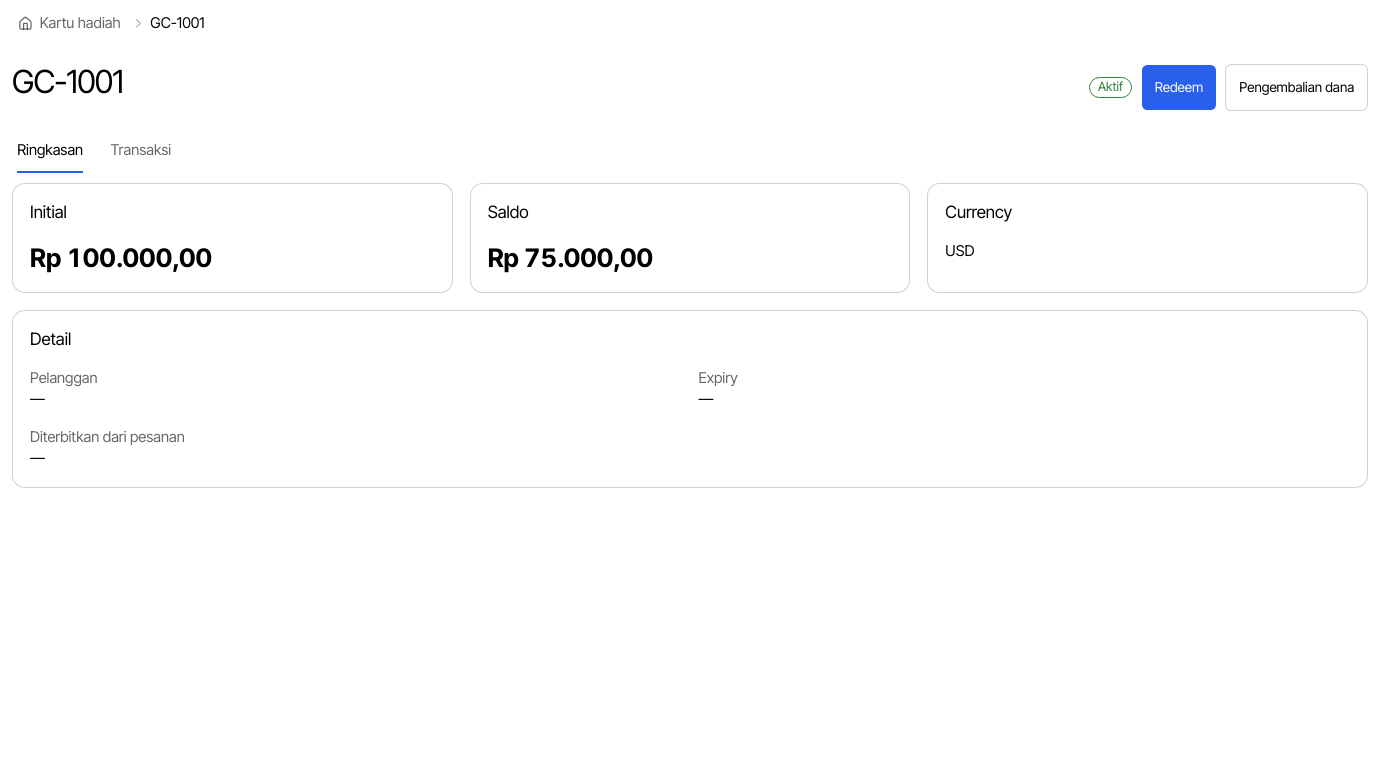
Test: GiftCardDetail › shows empty transactions on the transactions tab
Expected: the heading "GC-1001" is shown, 12,64 -> 123,100
Click the tab "Transaksi": (141, 151) 110,128 -> 172,174
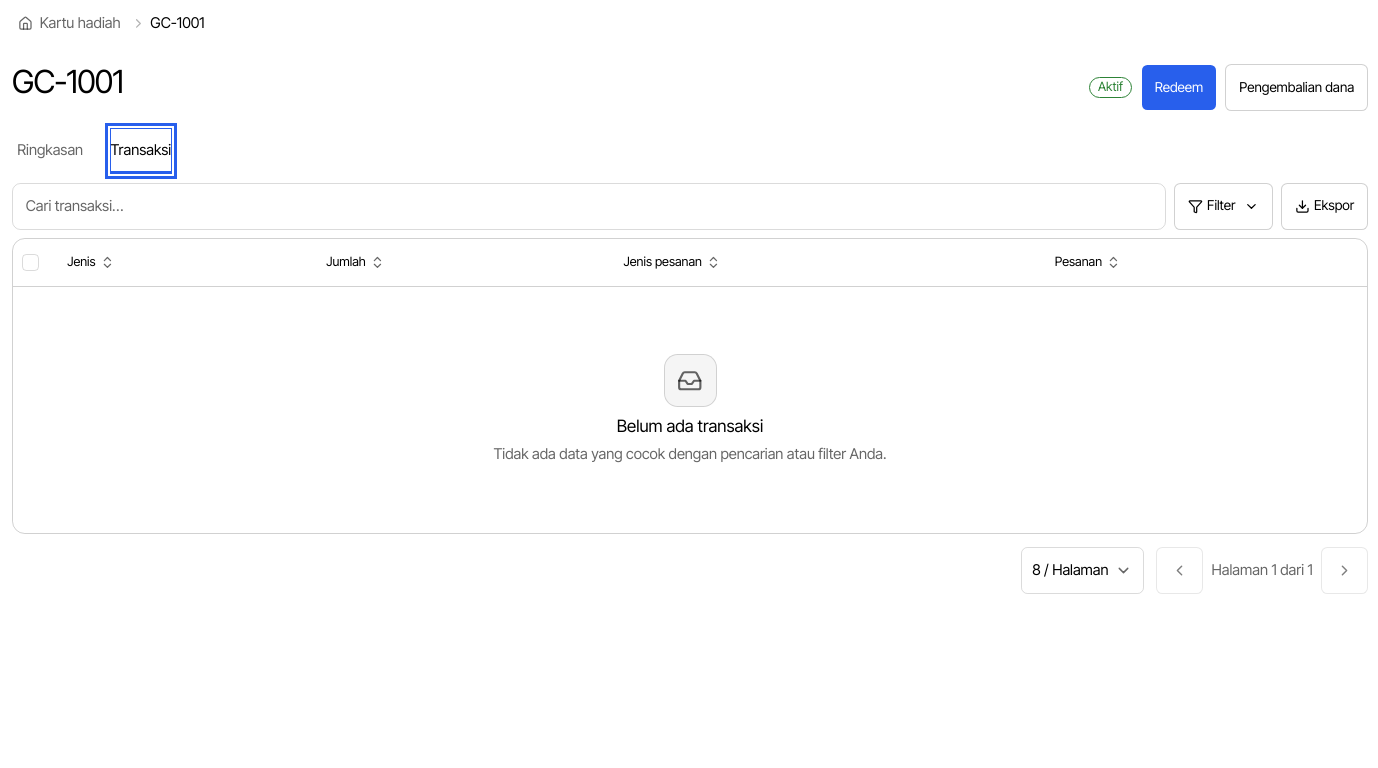
Result: the heading "Belum ada transaksi" is shown at 617,416 -> 763,436
